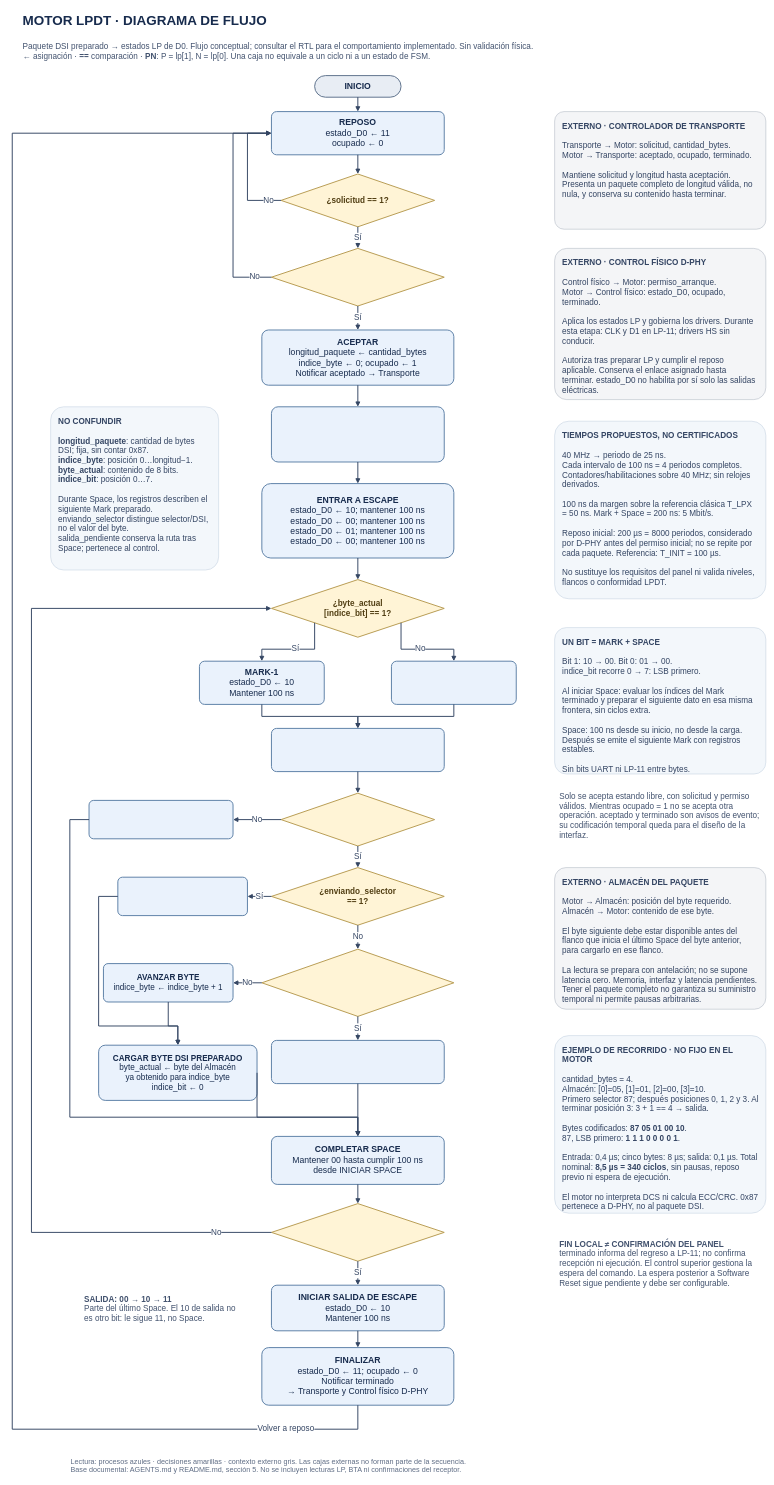
This 774x1485 diagram has some shape labels left out. The centre of each missing label's shape, as x and y in pixels:
AVANZAR BIT indice_bit ← indice_bit + 1: (x=160, y=819)
INICIAR SPACE estado_D0 ← 00 salida_pendiente ← 0: (x=357, y=750)
MARK-0 estado_D0 ← 01 Mantener 100 ns: (x=453, y=682)
PASAR AL PAQUETE DSI enviando_selector ← 0: (x=182, y=896)
PREPARAR SELECTOR byte_actual ← 0x87 indice_bit ← 0 enviando_selector ← 1: (x=357, y=434)
RECORDAR FIN DEL PAQUETE salida_pendiente ← 1: (x=357, y=1062)
¿indice_bit == 7?: (x=357, y=819)
¿indice_byte + 1 == longitud_paquete?: (x=357, y=982)
¿permiso_arranque == 1?: (x=357, y=277)
¿salida_pendiente == 1?: (x=357, y=1232)
